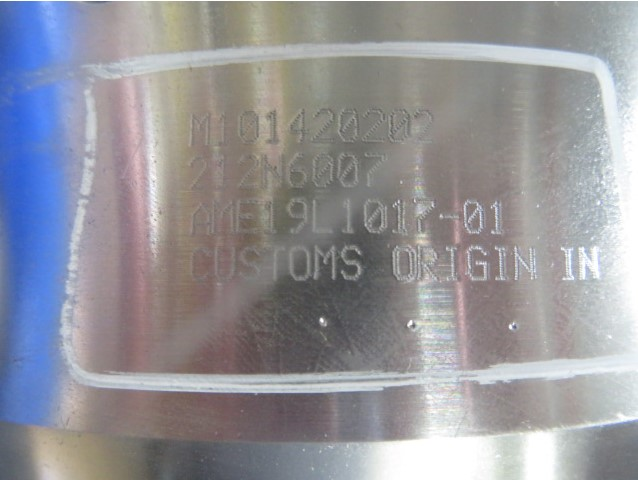character: (361, 150, 394, 191), (359, 195, 389, 239), (310, 240, 339, 285), (234, 195, 264, 238), (280, 196, 310, 238), (183, 110, 215, 149), (389, 243, 418, 286), (360, 104, 388, 148), (339, 243, 368, 285), (512, 240, 539, 285), (283, 105, 311, 148), (577, 244, 607, 284), (185, 151, 212, 195), (464, 242, 491, 286), (186, 242, 213, 286), (233, 105, 261, 147), (213, 242, 238, 289), (311, 103, 337, 148), (286, 240, 312, 285), (412, 104, 440, 145), (411, 195, 439, 236), (261, 241, 286, 286), (460, 196, 487, 237), (238, 241, 261, 289), (441, 240, 464, 287), (310, 195, 335, 238), (335, 150, 361, 191), (235, 151, 261, 192), (418, 240, 441, 286), (261, 150, 286, 192), (337, 103, 360, 148), (211, 197, 235, 240), (336, 195, 359, 239), (187, 198, 211, 240), (388, 104, 412, 145), (310, 150, 335, 188), (261, 105, 283, 147), (487, 196, 509, 238), (286, 150, 310, 188), (491, 242, 512, 285), (389, 195, 411, 236), (212, 149, 230, 195), (215, 105, 233, 149), (559, 243, 577, 284), (264, 196, 280, 238), (436, 206, 462, 229)
